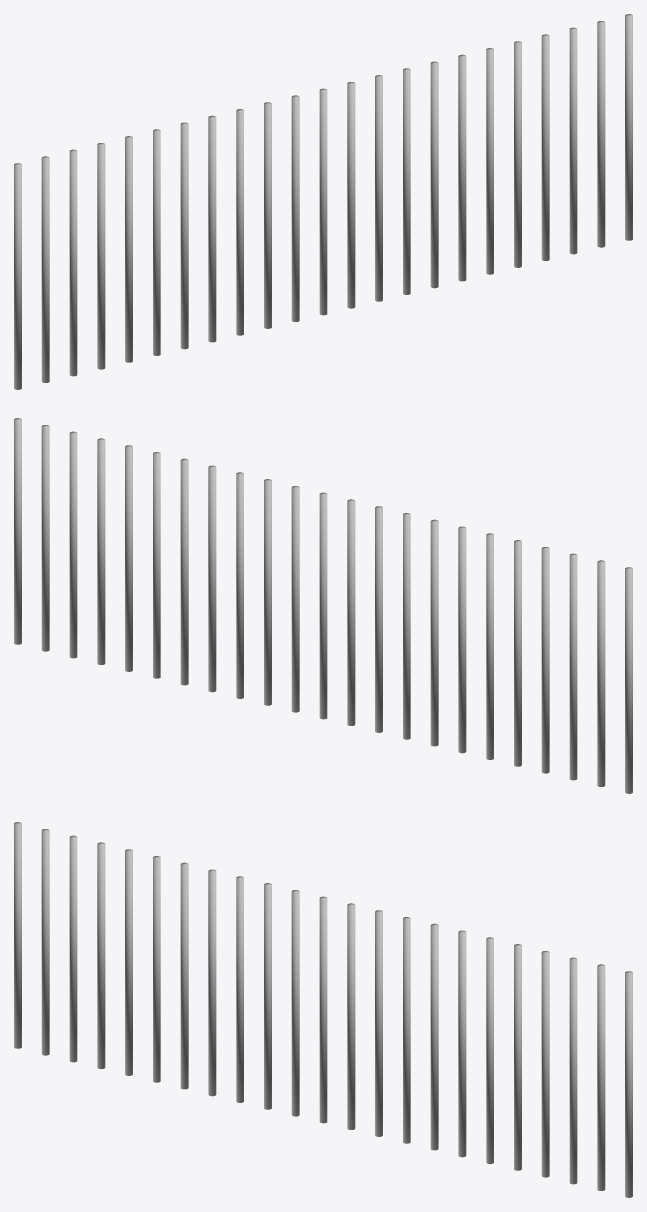
The model's file is RailShort_RailingMidPipes.FBX.
The picture shows the model from 3 angles, top to bottom: view 1: azimuth 30°, elevation 25°; view 2: azimuth 150°, elevation 25°; view 3: azimuth 330°, elevation 25°; orthographic projection.
Visible parts, largest first — view 1: RailShort_RailingMidPipes; view 2: RailShort_RailingMidPipes; view 3: RailShort_RailingMidPipes.
Boxes of the visible parts, left/top/right/bottom form: RailShort_RailingMidPipes: left=14, top=14, right=632, bottom=389; RailShort_RailingMidPipes: left=14, top=418, right=632, bottom=793; RailShort_RailingMidPipes: left=14, top=822, right=632, bottom=1197.
Size of the model in its own units: 267 by 3 by 92.23.
